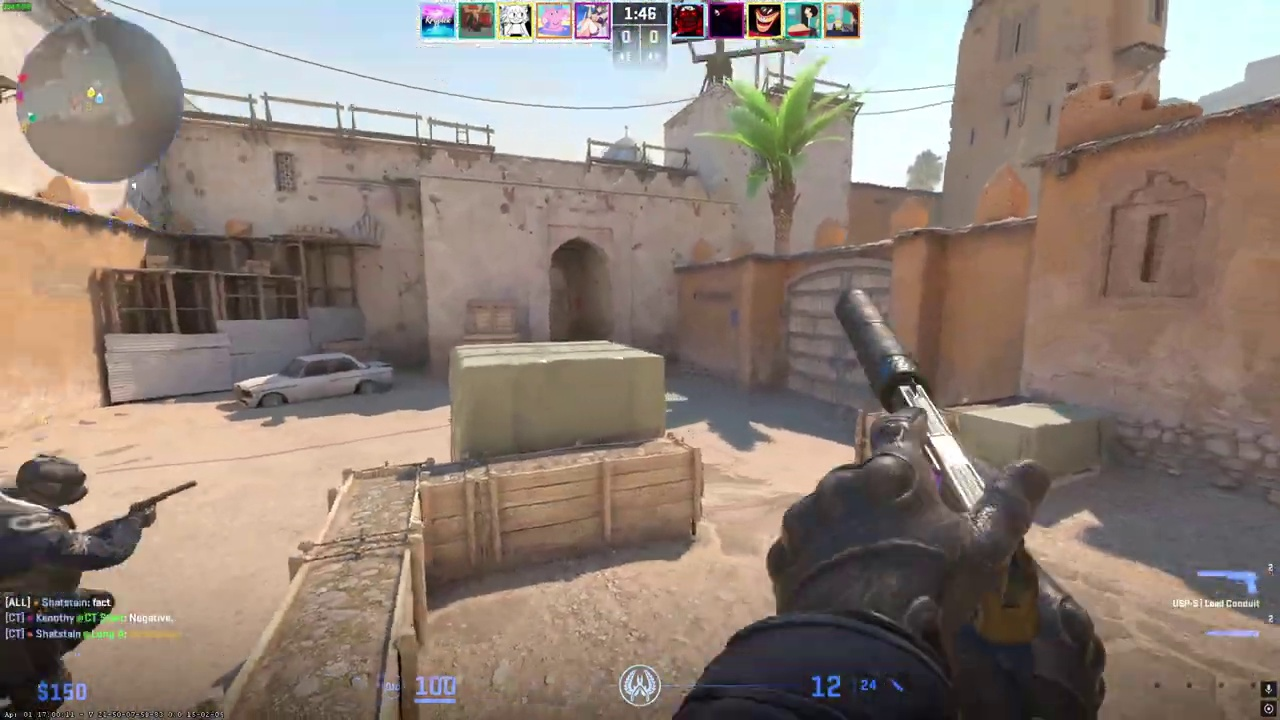CT: (0, 454, 133, 720)
